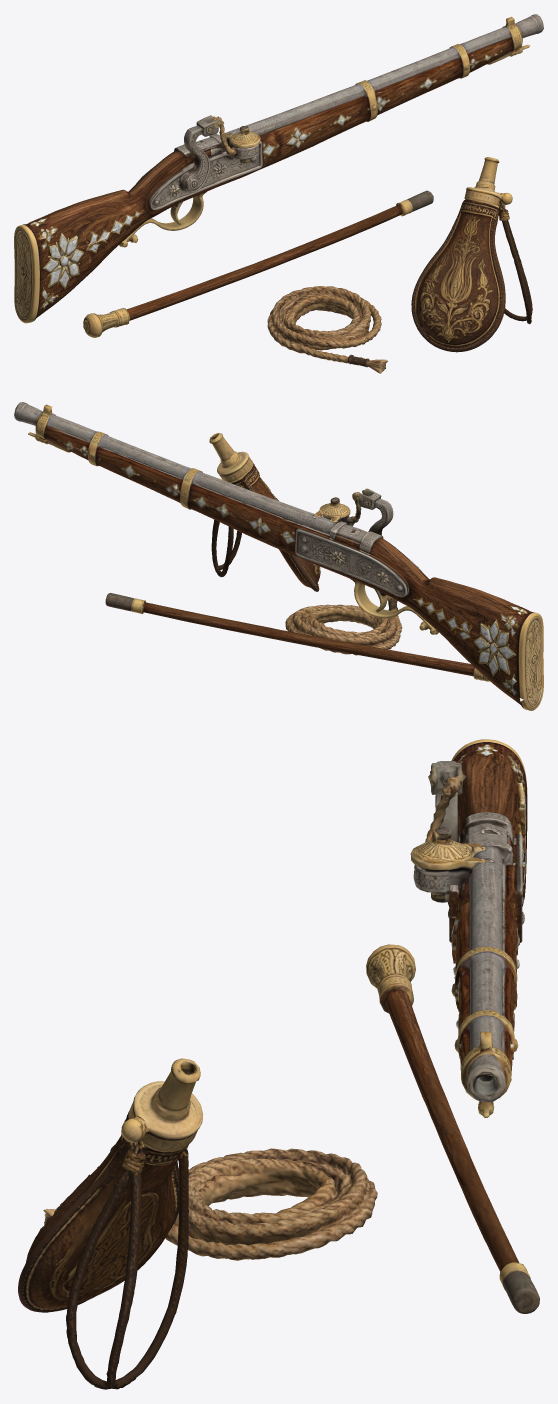
Rendered from Süslemeli yeniçeri tüfeği.glb.
3 renders of one model, top to bottom at view 1: azimuth 30°, elevation 25°; view 2: azimuth 150°, elevation 25°; view 3: azimuth 270°, elevation 25°, orthographic. The views are drawn at different scales.
Parts seen in each view (by area): view 1: tripo_node_ce2a9282-cbe0-4f7d-b0b5-7a48c7c3c799; view 2: tripo_node_ce2a9282-cbe0-4f7d-b0b5-7a48c7c3c799; view 3: tripo_node_ce2a9282-cbe0-4f7d-b0b5-7a48c7c3c799.
Boxes of the visible parts, x1,y1,x2,y2 form: tripo_node_ce2a9282-cbe0-4f7d-b0b5-7a48c7c3c799: [14, 14, 543, 373]; tripo_node_ce2a9282-cbe0-4f7d-b0b5-7a48c7c3c799: [14, 402, 543, 710]; tripo_node_ce2a9282-cbe0-4f7d-b0b5-7a48c7c3c799: [18, 739, 539, 1389].
Size of the model in its own units: 0.9803 by 0.3921 by 0.4275.
Materials: 1 (1 with a texture image).
